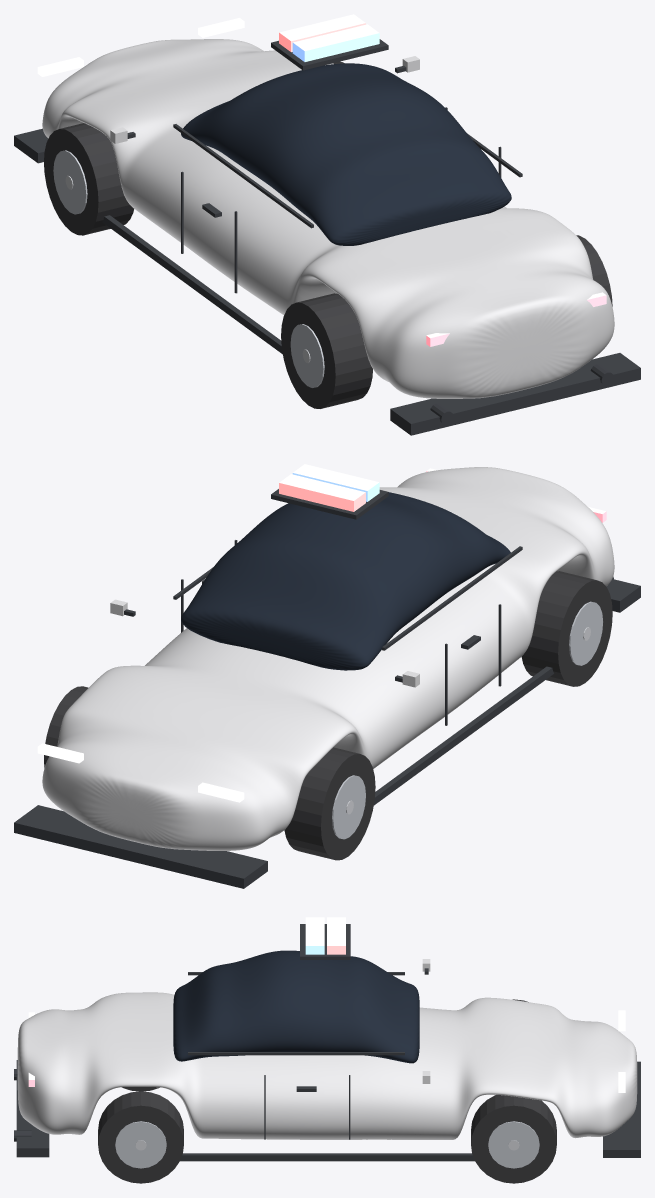
Rendered from police.glb.
The picture shows the model from 3 angles, top to bottom: view 1: azimuth 30°, elevation 25°; view 2: azimuth 150°, elevation 25°; view 3: azimuth 270°, elevation 25°; orthographic projection. The views are drawn at different scales.
Visible parts, largest first — view 1: Body, Glass, Trim, WheelRL, WheelFL, LightFront, WheelRR; view 2: Body, Glass, Trim, WheelRL, WheelFL, LightFront, WheelFR; view 3: Body, Glass, Trim, WheelRR, WheelFR, LightFront.
Part boxes in pixels (x1,y1,x2,y2): Body: (42, 39, 614, 398); Glass: (181, 63, 511, 245); Trim: (14, 39, 640, 435); WheelRL: (281, 293, 372, 408); WheelFL: (44, 123, 133, 235); LightFront: (37, 14, 379, 76); WheelRR: (576, 235, 612, 306); Body: (42, 467, 614, 850); Glass: (181, 492, 510, 670); Trim: (14, 489, 640, 888); WheelRL: (521, 571, 612, 686); WheelFL: (284, 747, 375, 860); LightFront: (37, 464, 379, 802); WheelFR: (44, 686, 88, 767); Body: (17, 992, 637, 1139); Glass: (173, 950, 419, 1063); Trim: (14, 924, 640, 1161); WheelRR: (98, 1091, 183, 1183); WheelFR: (471, 1095, 556, 1183); LightFront: (305, 917, 625, 1092).
Size of the model in its own units: 2.19 by 1.74 by 4.96.
